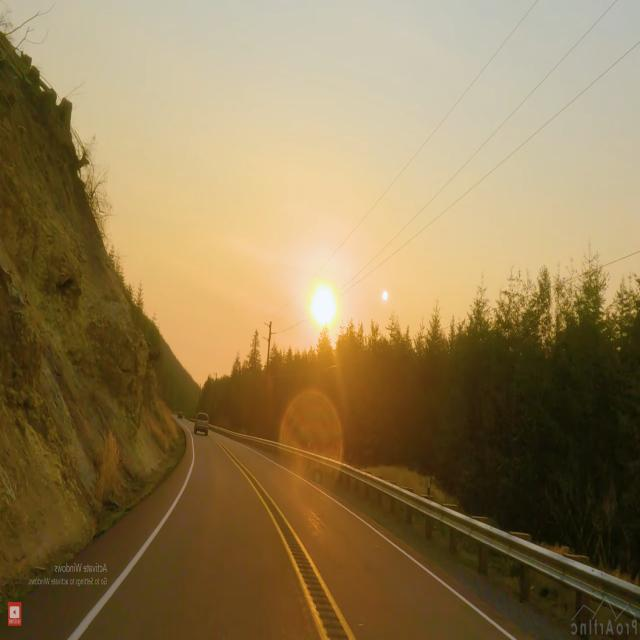sun: (296, 268, 349, 339)
